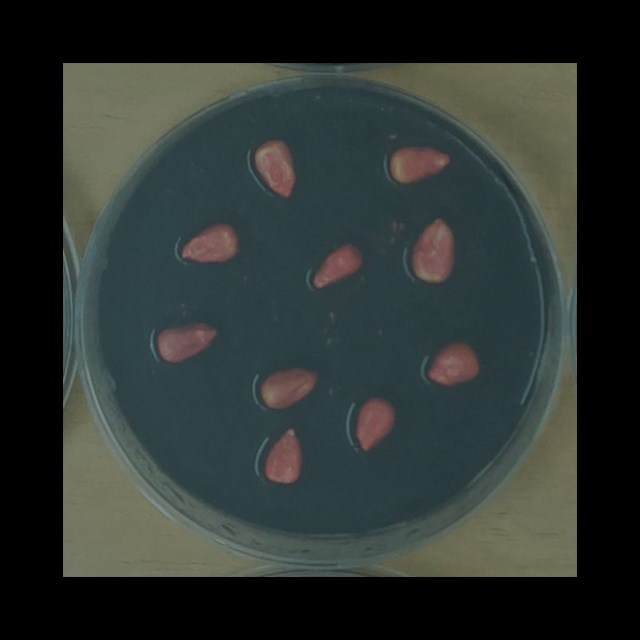Zea mays: (406, 210, 461, 287), (255, 357, 324, 413), (304, 234, 369, 293), (344, 389, 401, 456), (152, 314, 223, 367), (383, 139, 457, 189), (175, 215, 246, 267), (248, 131, 300, 202), (254, 419, 307, 487), (421, 336, 486, 391)
